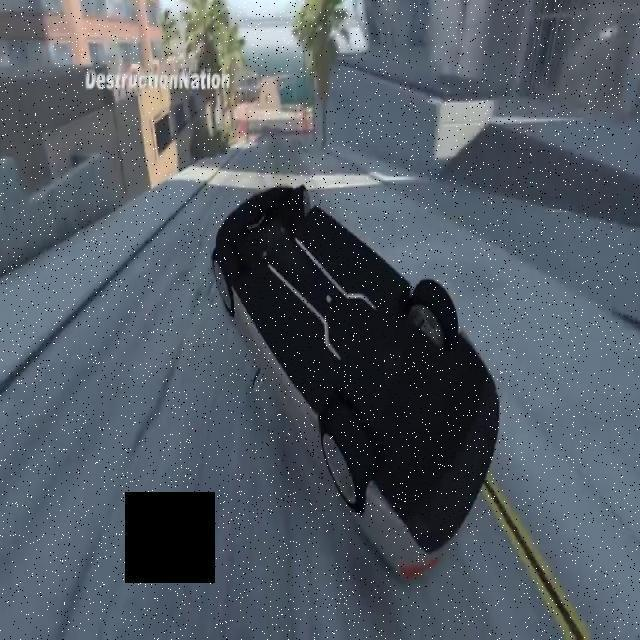single accident: (147, 123, 512, 607)
